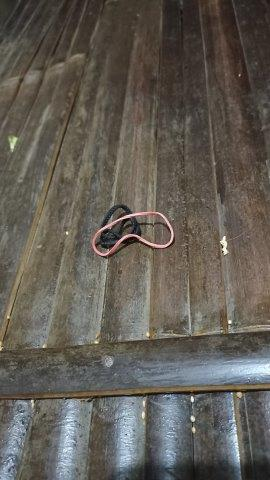karet: (90, 204, 174, 257)
